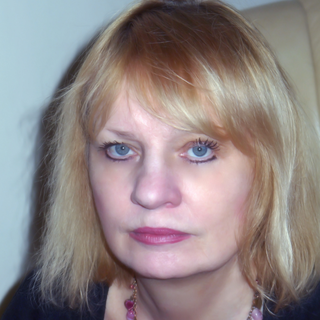eye: (97, 134, 142, 165), (177, 140, 220, 166)
